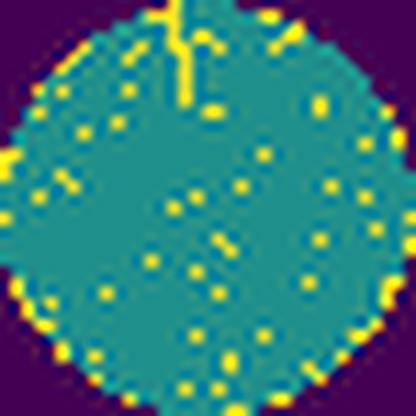Scratch: (137, 0, 200, 116)
